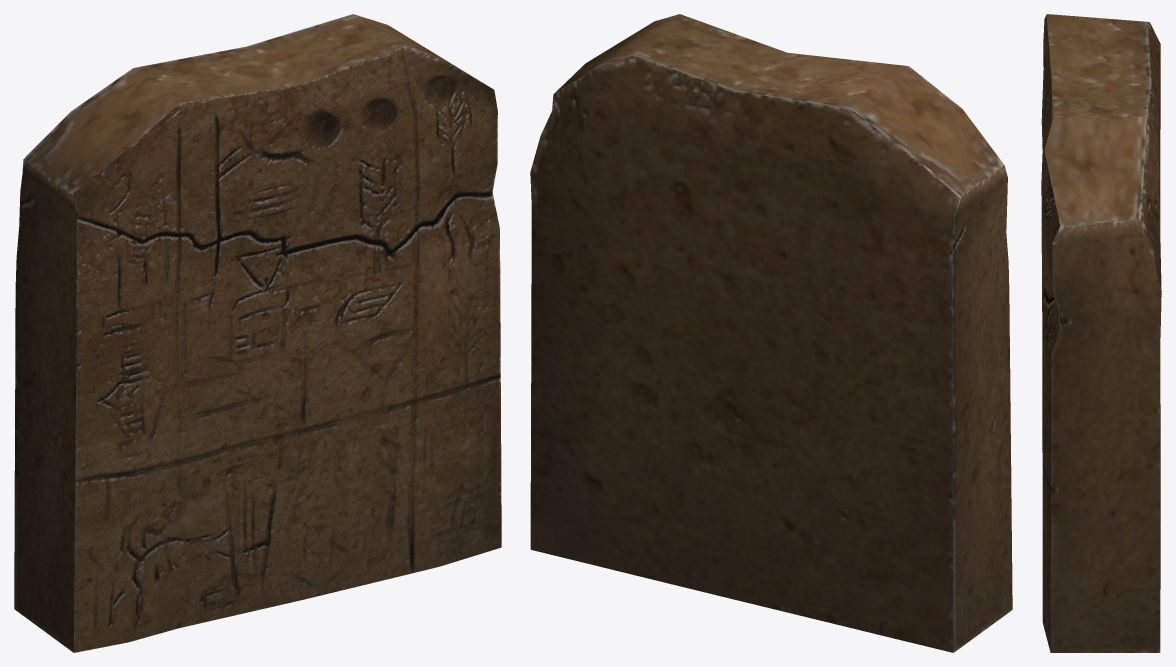
File: clay_tablet.dae
The picture shows the model from 3 angles, left to right: view 1: azimuth 30°, elevation 25°; view 2: azimuth 150°, elevation 25°; view 3: azimuth 270°, elevation 25°; orthographic projection. The views are drawn at different scales.
Visible parts, largest first — view 1: polySurface1; view 2: polySurface1; view 3: polySurface1.
Boxes of the visible parts, <box> form: polySurface1: <box>14,14,501,652</box>; polySurface1: <box>530,14,1012,652</box>; polySurface1: <box>1041,14,1161,652</box>.
Size of the model in its own units: 0.8954 by 1.05 by 0.2319.
